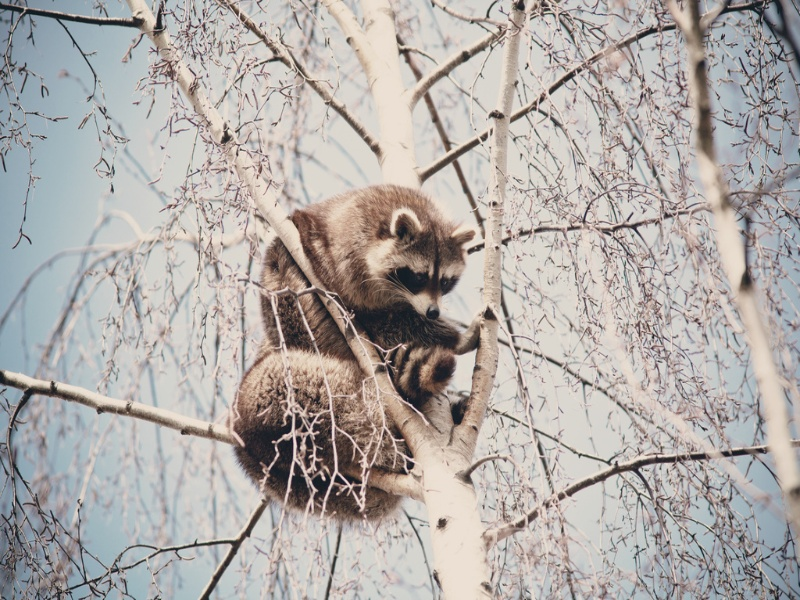raccoon: (254, 187, 489, 388)
